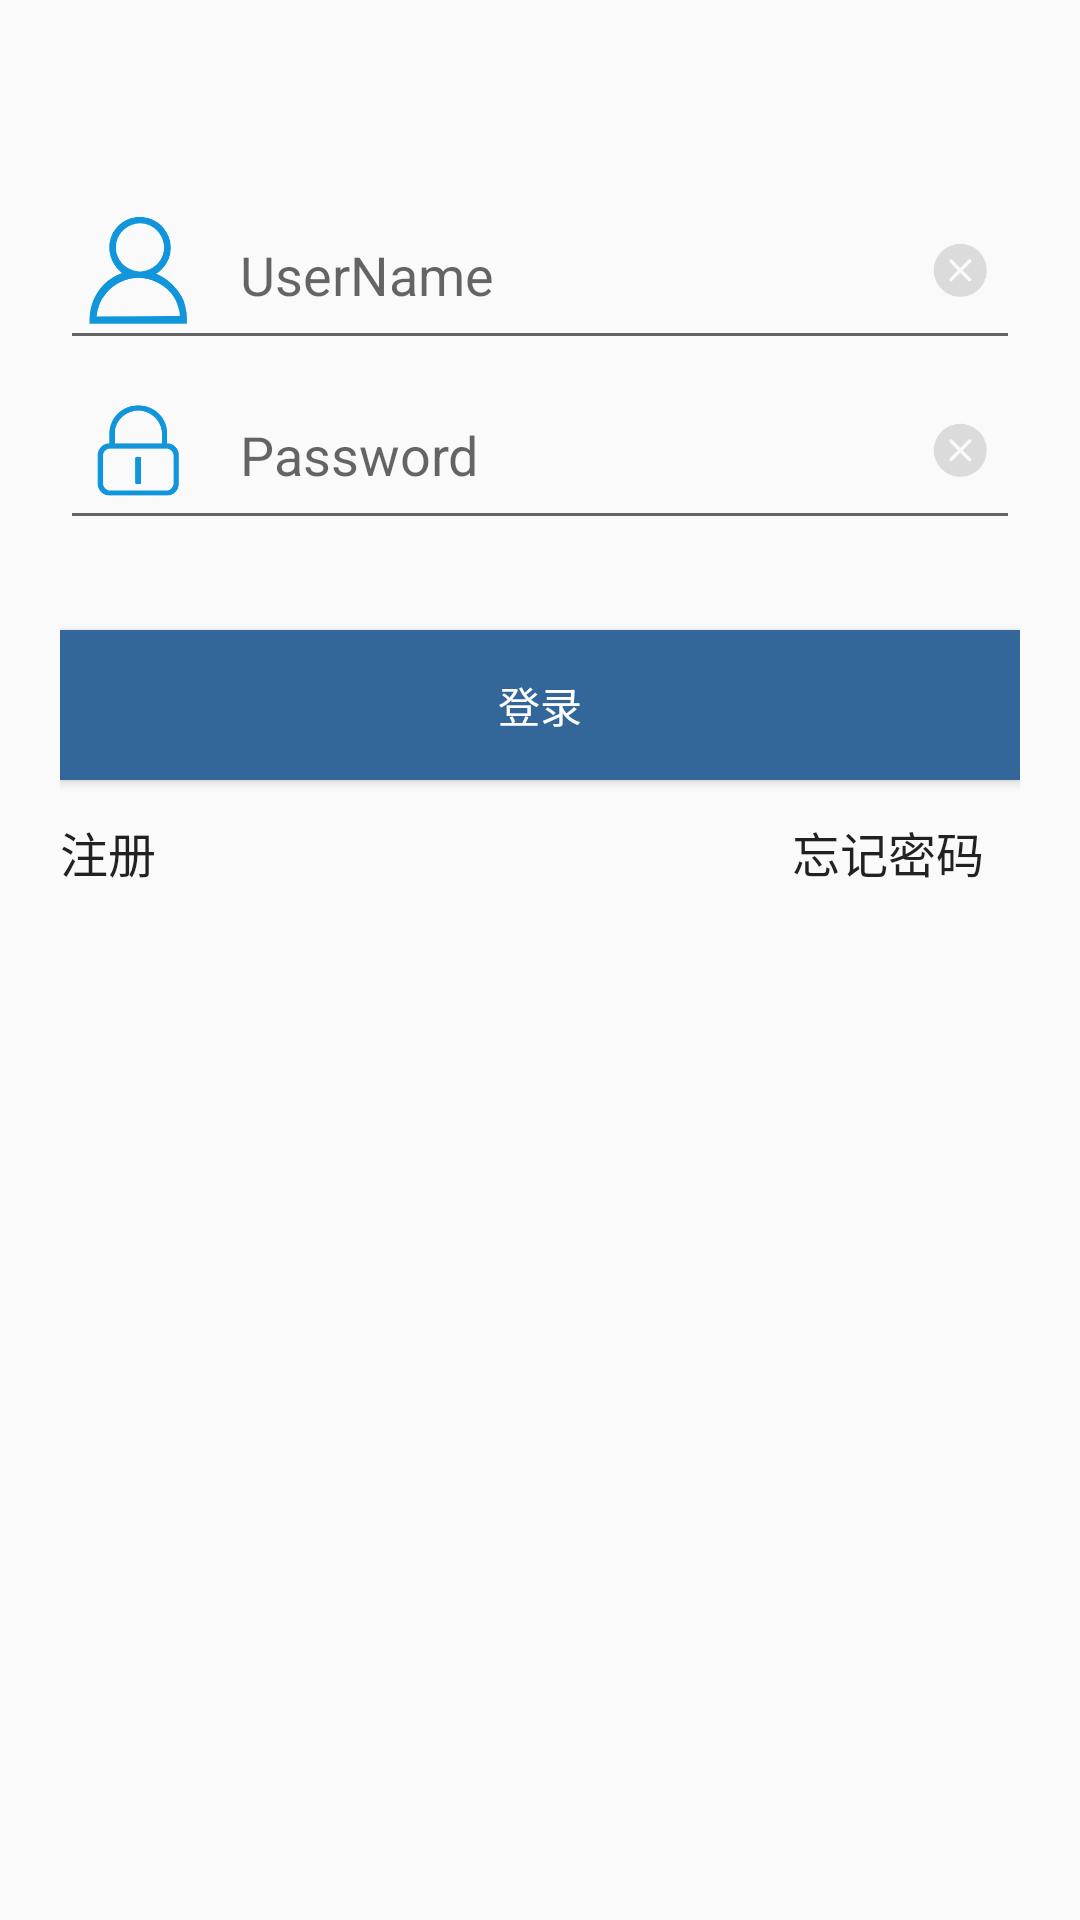

Icon click points for this 1080w x 1920h phone screenshot, format point (x, y):
clear: point (960, 270), point (960, 450)
